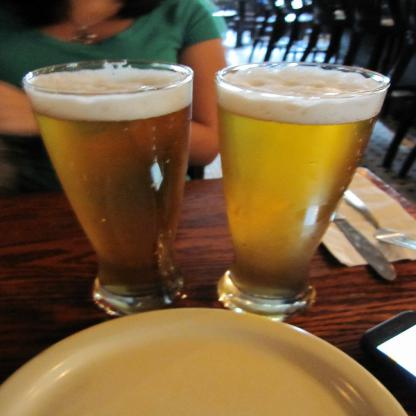drinking: (217, 62, 390, 322), (22, 59, 194, 317)
